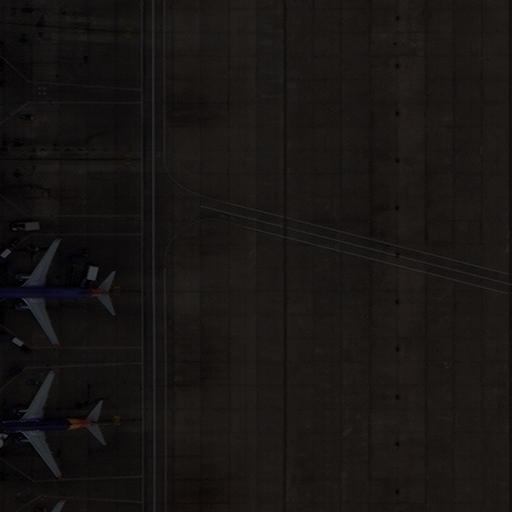Medium Civil Transport: (0, 241, 119, 345), (0, 372, 111, 478)
